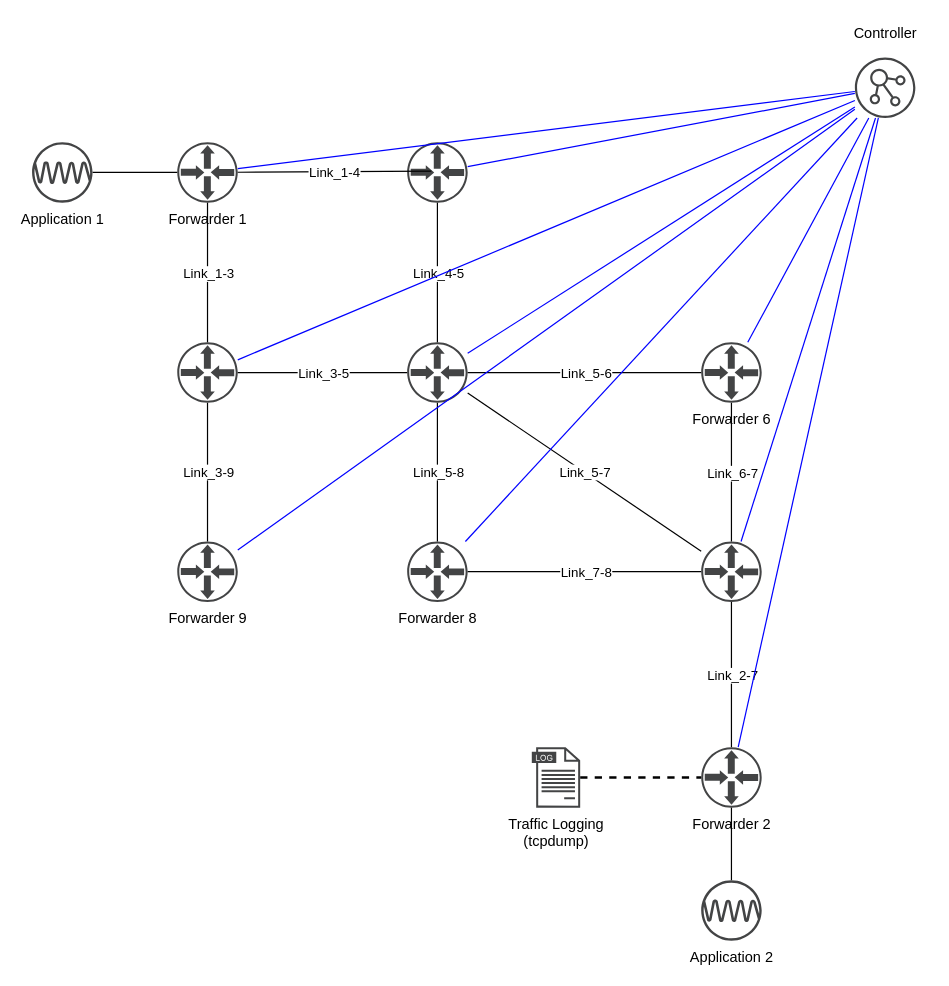
The diagram is 949 pixels wide and 986 high, and some of its shapes have lost their labels. Here are the shapes that lost their labels. From the top down, the centre of each, then its label:
(437,172): Forwarder 4
(207,372): Forwarder 3
(437,372): Forwarder 5
(731,571): Forwarder 7
